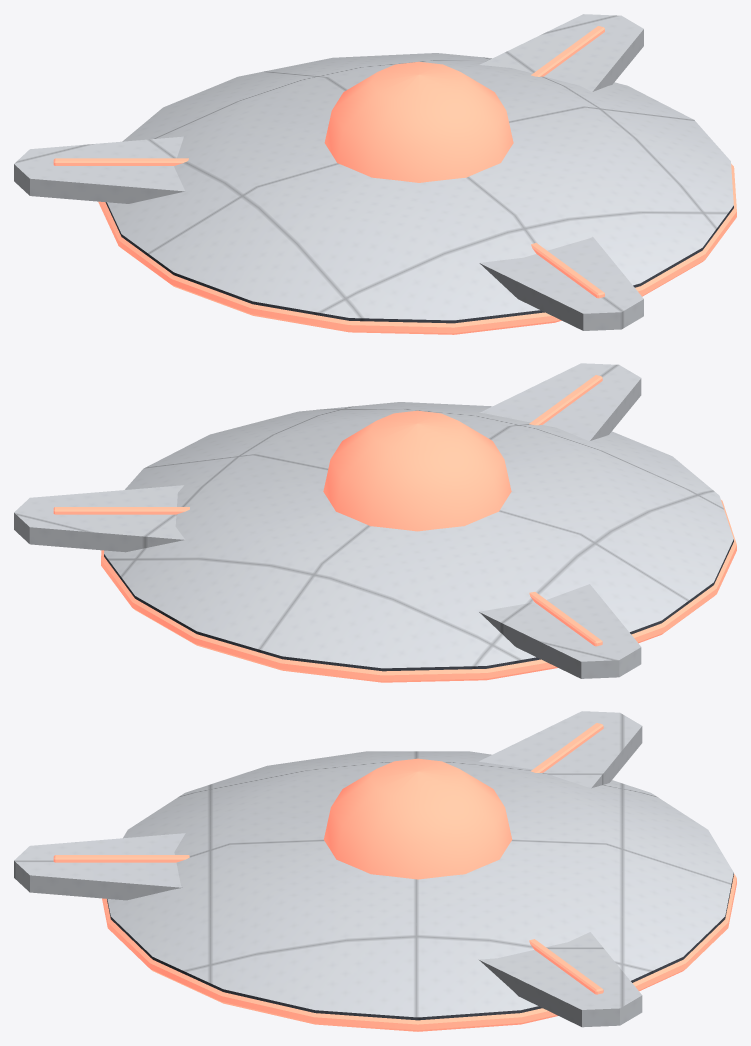
The model's file is R4D_ExplosiveTrap_LOD1.glb.
3 views of the same model, one above another, from view 1: azimuth 30°, elevation 25°; view 2: azimuth 150°, elevation 25°; view 3: azimuth 270°, elevation 25° (orthographic).
Parts seen in each view (by area): view 1: R4D_ExplosiveTrap_LOD1; view 2: R4D_ExplosiveTrap_LOD1; view 3: R4D_ExplosiveTrap_LOD1.
Boxes of the visible parts, x1,y1,x2,y2 form: R4D_ExplosiveTrap_LOD1: [14, 14, 736, 334]; R4D_ExplosiveTrap_LOD1: [14, 363, 736, 682]; R4D_ExplosiveTrap_LOD1: [14, 711, 736, 1031].
Size of the model in its own units: 0.4464 by 0.1 by 0.4563.
Materials: 4 (3 with a texture image).
